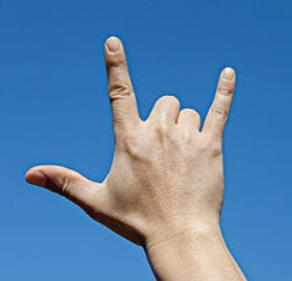back: (21, 33, 240, 246)
